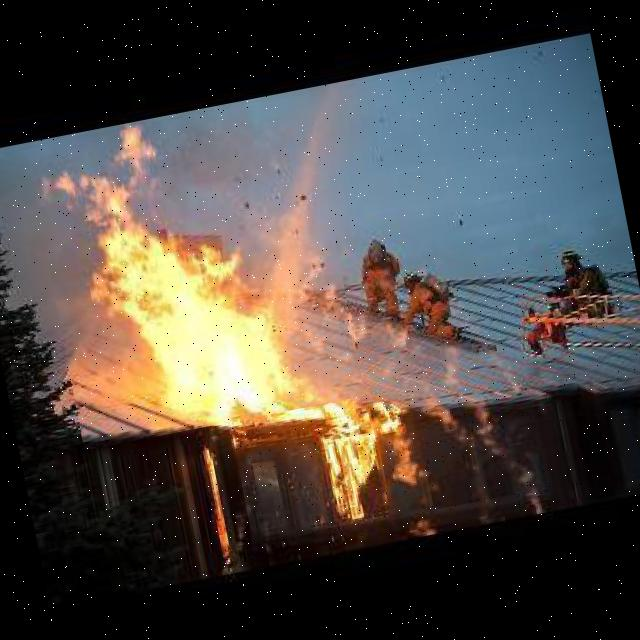fire: (26, 94, 365, 450)
